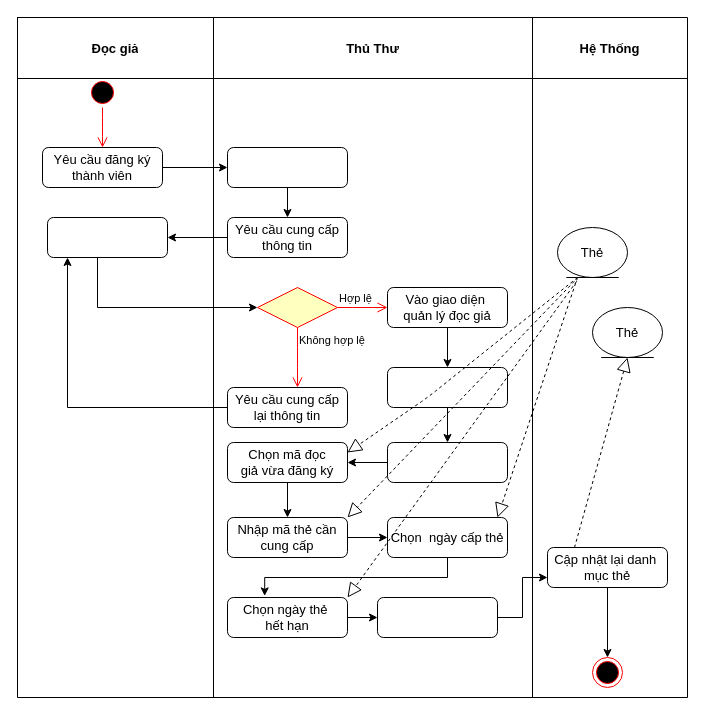
Image size: 705x715. Some labels were removed from this diagram. Each missing label, with the centre of its shape:
"Cung cấp thông tin" belongs at [107,237].
"Tiến hành cấp thẻ cho đọc giả" belongs at [437,617].
"Tiếp nhận yêu cầu đọc giả" belongs at [287,167].
"Vào giao diện quản lý thẻ" belongs at [447,462].
"Đăng ký thành viên cho đọc giả" belongs at [447,387].
